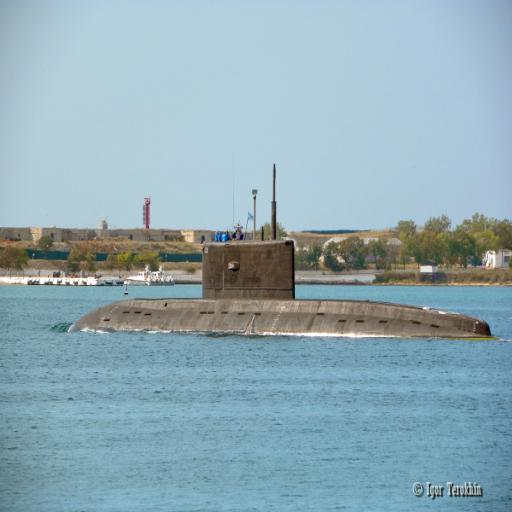submarine: (69, 158, 498, 336)
